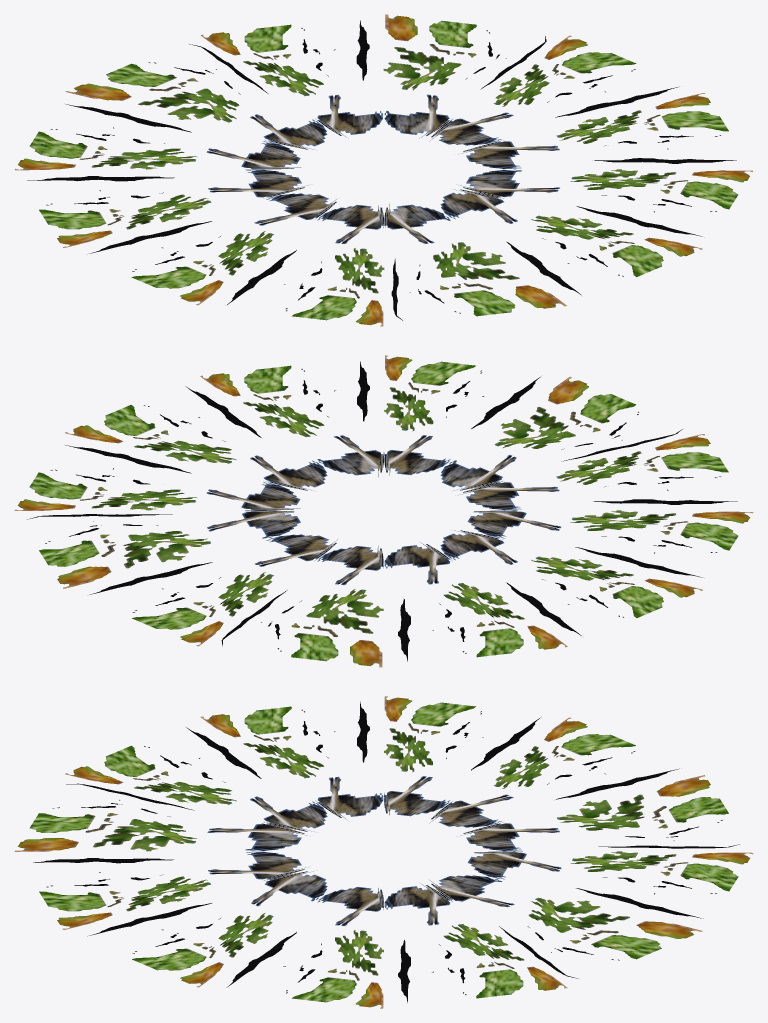
3 views of the same model, one above another, from view 1: azimuth 30°, elevation 25°; view 2: azimuth 150°, elevation 25°; view 3: azimuth 270°, elevation 25° (orthographic).
Visible parts, largest first — view 1: mesh00; view 2: mesh00; view 3: mesh00.
Boxes of the visible parts, x1,y1,x2,y2 form: mesh00: (14, 14, 753, 326); mesh00: (14, 355, 753, 667); mesh00: (14, 696, 753, 1008).
Bounding box in the file's own units: 980 × 1.99 × 979.
